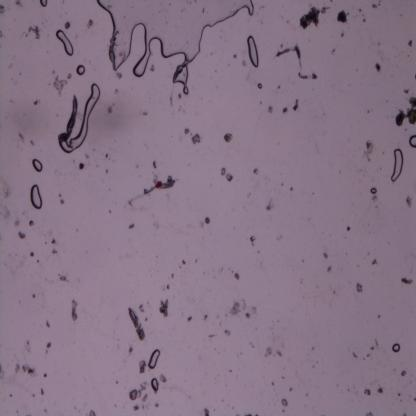Air bubble: (96, 1, 255, 93), (60, 83, 101, 153), (246, 34, 260, 70), (55, 29, 74, 55), (390, 148, 404, 183), (29, 182, 43, 212), (148, 348, 161, 368), (32, 156, 43, 173), (150, 378, 159, 394), (76, 62, 86, 76), (391, 342, 401, 354), (408, 134, 416, 148), (38, 0, 48, 7), (256, 82, 262, 90)
Background material: (275, 44, 317, 80), (393, 96, 416, 127), (129, 305, 147, 342), (130, 381, 150, 410), (230, 299, 258, 318), (299, 7, 322, 30), (360, 139, 376, 164), (51, 76, 68, 98), (184, 128, 203, 146), (24, 22, 42, 41), (69, 296, 79, 324), (158, 296, 170, 318), (218, 166, 234, 182), (21, 362, 37, 376), (264, 347, 281, 360), (264, 194, 276, 212), (335, 10, 349, 25), (368, 338, 379, 356), (222, 130, 236, 144), (2, 206, 13, 223), (50, 238, 60, 256), (291, 98, 301, 113), (23, 340, 32, 355), (404, 193, 413, 208), (280, 396, 291, 408), (401, 276, 414, 286), (371, 0, 383, 10), (138, 360, 146, 374), (374, 60, 382, 74), (12, 360, 20, 374), (376, 384, 385, 396), (3, 186, 12, 198), (355, 282, 364, 294), (63, 19, 72, 30), (266, 105, 275, 116), (406, 37, 415, 48), (18, 130, 26, 142), (86, 18, 94, 30), (330, 45, 338, 57), (249, 233, 257, 245), (127, 344, 135, 356), (320, 6, 332, 14), (77, 161, 86, 171), (115, 70, 124, 80), (346, 386, 357, 394), (201, 311, 209, 322), (85, 409, 97, 416), (0, 2, 6, 16), (108, 103, 115, 115), (158, 374, 167, 383), (364, 386, 372, 396), (57, 274, 67, 282), (372, 196, 378, 209), (152, 158, 158, 170), (44, 316, 50, 328), (127, 222, 136, 230), (27, 219, 36, 227), (15, 0, 24, 8), (203, 402, 209, 414), (45, 340, 52, 350), (14, 219, 21, 229), (0, 366, 5, 380), (370, 187, 378, 195), (364, 108, 372, 116), (18, 232, 26, 240), (162, 282, 170, 290), (149, 64, 156, 73), (364, 410, 374, 416), (224, 328, 232, 335), (351, 350, 358, 358), (282, 106, 289, 114), (253, 166, 260, 174), (28, 248, 35, 256), (322, 251, 329, 259), (204, 217, 211, 225), (403, 87, 410, 95), (400, 370, 407, 378), (208, 333, 216, 340), (58, 193, 63, 204), (327, 263, 332, 273), (169, 271, 175, 279), (48, 68, 56, 74), (39, 388, 45, 396), (372, 257, 378, 265), (186, 314, 192, 322), (234, 272, 240, 280), (140, 110, 148, 116), (231, 53, 238, 59), (65, 73, 72, 79), (8, 62, 14, 69), (30, 392, 36, 398), (28, 139, 34, 145), (400, 411, 407, 416), (346, 225, 351, 232), (242, 60, 247, 67), (340, 30, 344, 38), (115, 89, 119, 97), (288, 387, 294, 392), (376, 312, 381, 318), (177, 92, 182, 98), (154, 403, 160, 408), (8, 392, 12, 398), (245, 413, 253, 416), (182, 260, 186, 266), (281, 374, 285, 380), (34, 101, 38, 107), (32, 293, 36, 299), (270, 381, 274, 386), (250, 343, 254, 348), (105, 168, 109, 173), (358, 8, 362, 13), (332, 289, 336, 294), (0, 32, 4, 37), (413, 396, 416, 402), (362, 18, 366, 22), (397, 392, 401, 396), (43, 372, 47, 376), (305, 393, 308, 398), (106, 152, 108, 158), (382, 150, 385, 154), (44, 408, 46, 414), (312, 365, 315, 369), (312, 347, 315, 350), (255, 413, 258, 416), (415, 72, 416, 80), (401, 400, 402, 403)
Cellulose filter fibre: (128, 176, 174, 204), (58, 95, 80, 144)
